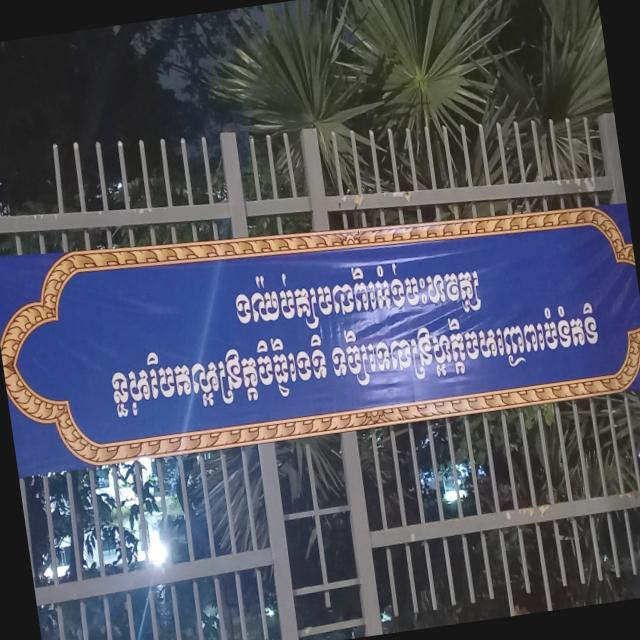2: (104, 296, 607, 431)
Yolov11_80vkh: (228, 248, 486, 336)
